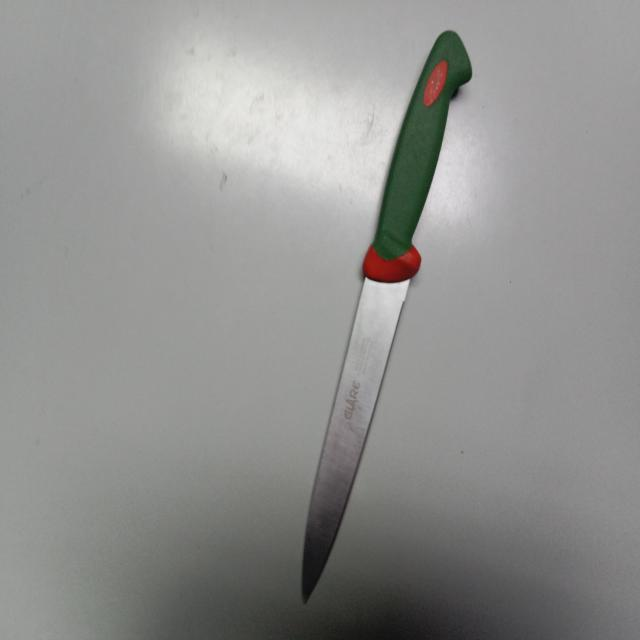Knife: (302, 29, 473, 603)
